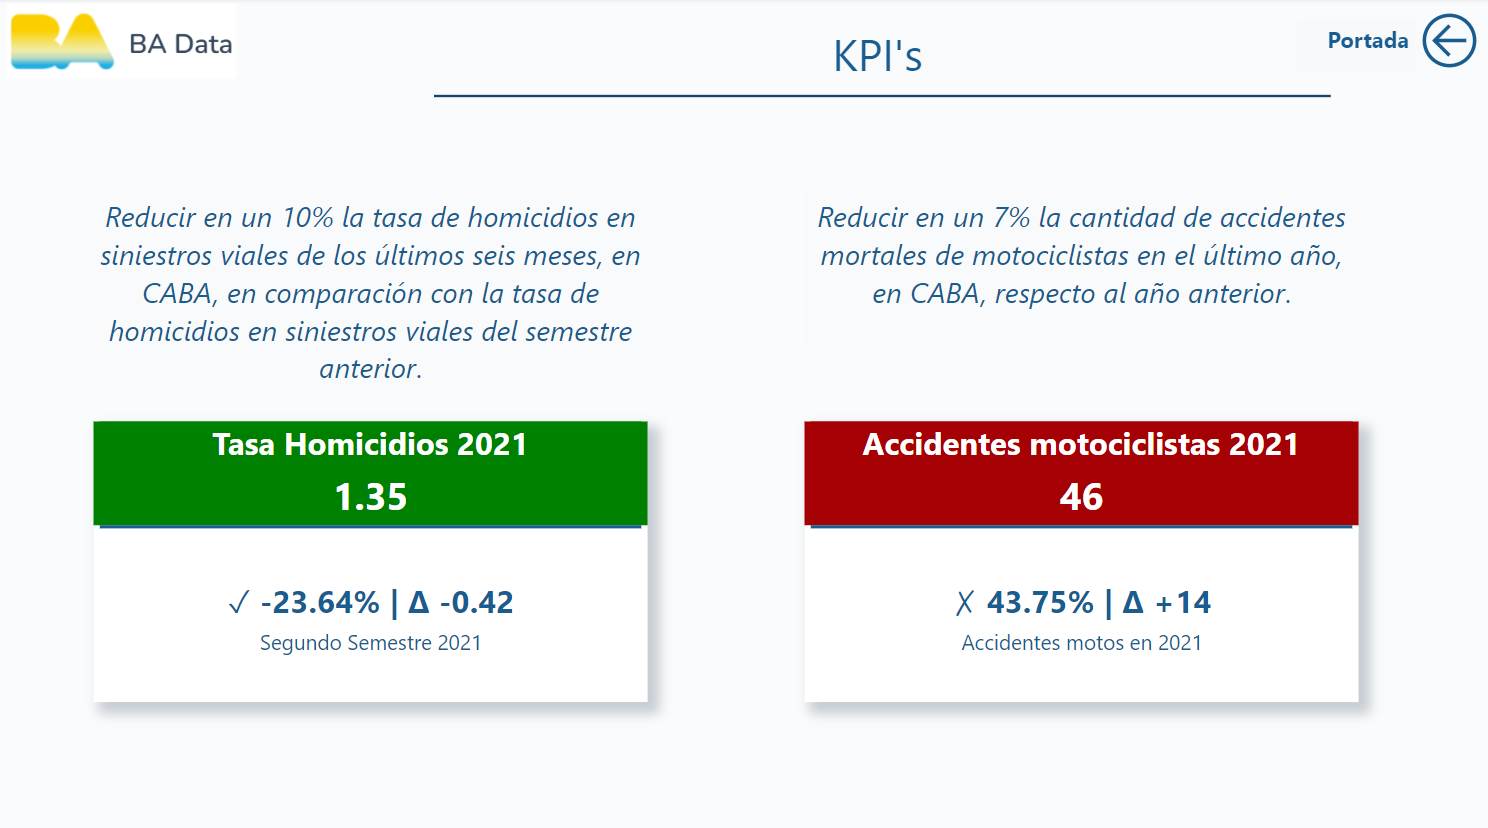

What the dashboard file says about the page in this screenshot:
{"tool":"powerbi","page":{"name":"KPI's","canvas":[1280,720],"ordinal":4},"visuals":[{"type":"image","box":[0,0,207.8,74.4],"z":0},{"type":"textbox","box":[218.8,17.8,1061.2,57.3],"z":1000},{"type":"shape","box":[369,36.9,760.9,94.2],"z":2000},{"type":"actionButton","box":[1201.1,7.6,67.4,58.5],"z":3000},{"type":"textbox","box":[1104.4,17.8,96.7,47.1],"z":4000},{"type":"card","title":"Tasa Homicidios 2021","fields":{"Values":["hechos.CumplimientoSemestre"]},"box":[103.9,346.8,469.8,238.5],"z":5000},{"type":"card","title":"Accidentes motociclistas 2021","fields":{"Values":["hechos.MotoComparacion"]},"box":[680.5,346.8,471.2,238.5],"z":6000},{"type":"textbox","box":[80.2,164.3,470,183.4],"z":7000},{"type":"textbox","box":[682.7,164.3,470,136.3],"z":8000}]}

Visuals, with their boxes in screenshot pixels (x1, y1, x2, y2), scaled from the page's 1280x720 canvas onto the 1488x828 screenshot:
image: detection(0, 0, 242, 86)
textbox: detection(254, 20, 1487, 86)
shape: detection(429, 42, 1314, 151)
actionButton: detection(1396, 9, 1475, 76)
textbox: detection(1284, 20, 1396, 75)
"Tasa Homicidios 2021" card: detection(121, 399, 667, 673)
"Accidentes motociclistas 2021" card: detection(791, 399, 1339, 673)
textbox: detection(93, 189, 640, 400)
textbox: detection(794, 189, 1340, 346)
